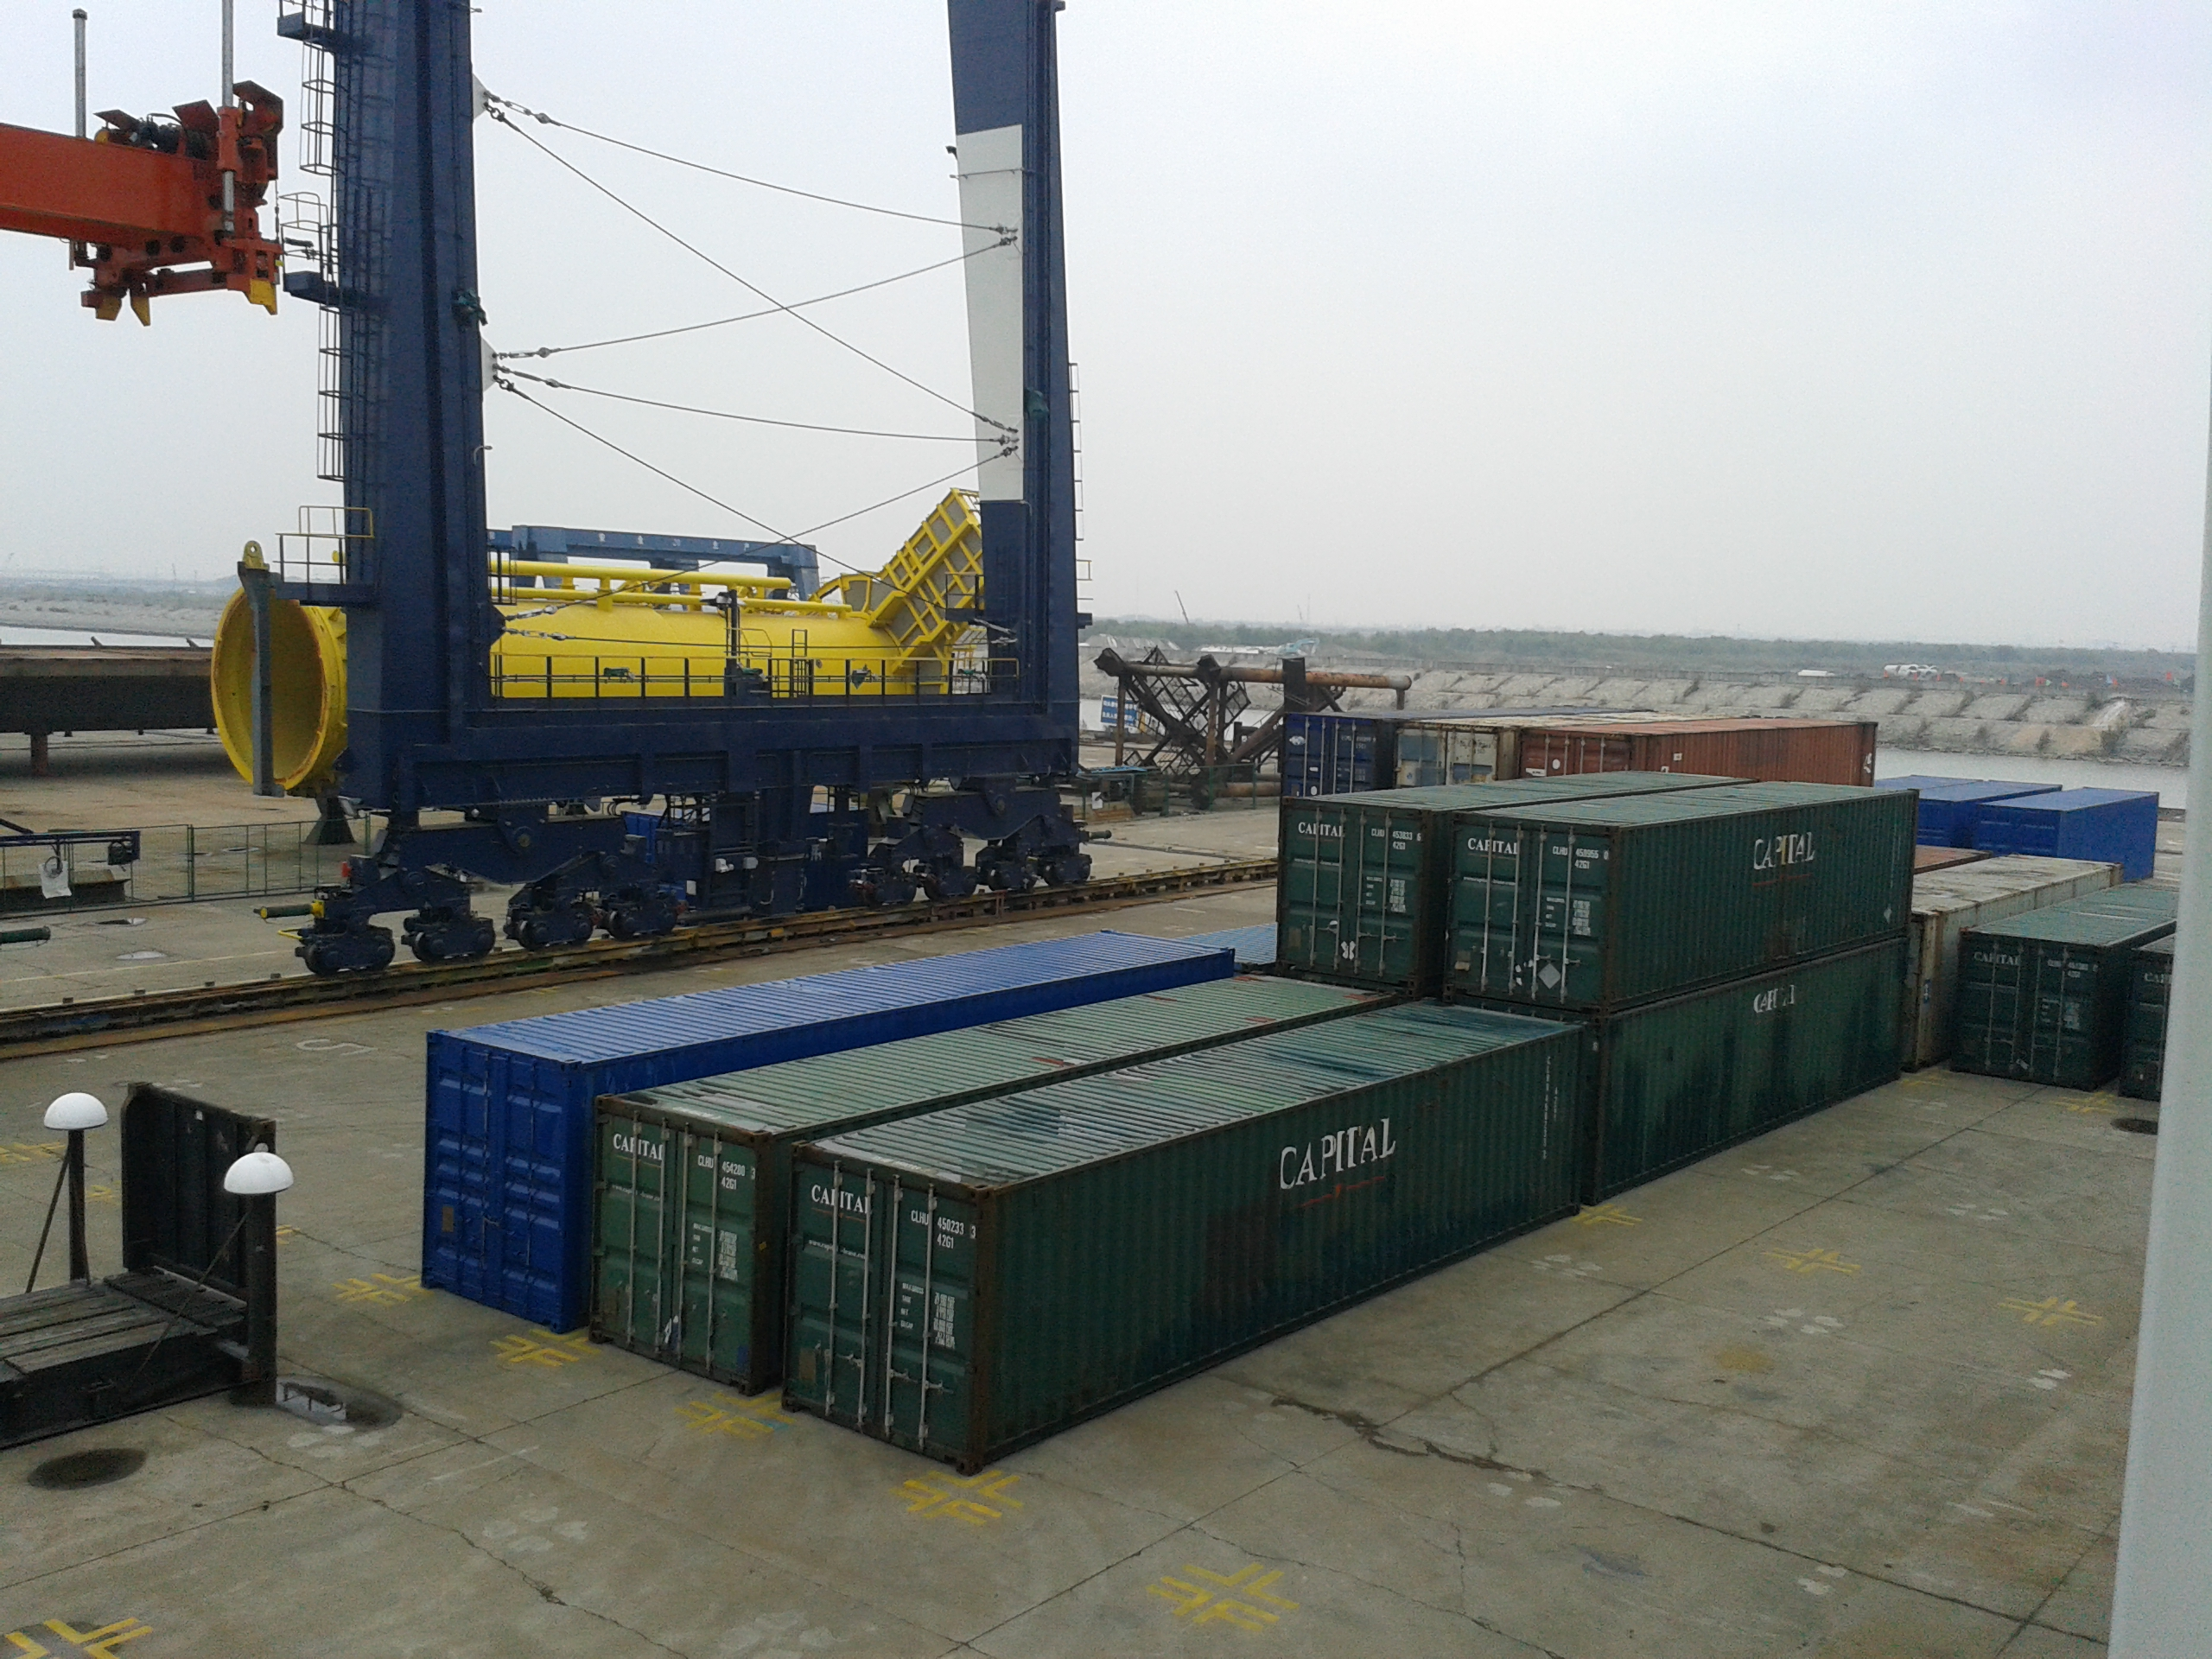container_door: (773, 1100, 970, 1495), (594, 1054, 761, 1406), (420, 1004, 585, 1354), (1442, 807, 1613, 1026), (1268, 788, 1439, 1006), (1951, 908, 2102, 1122)
